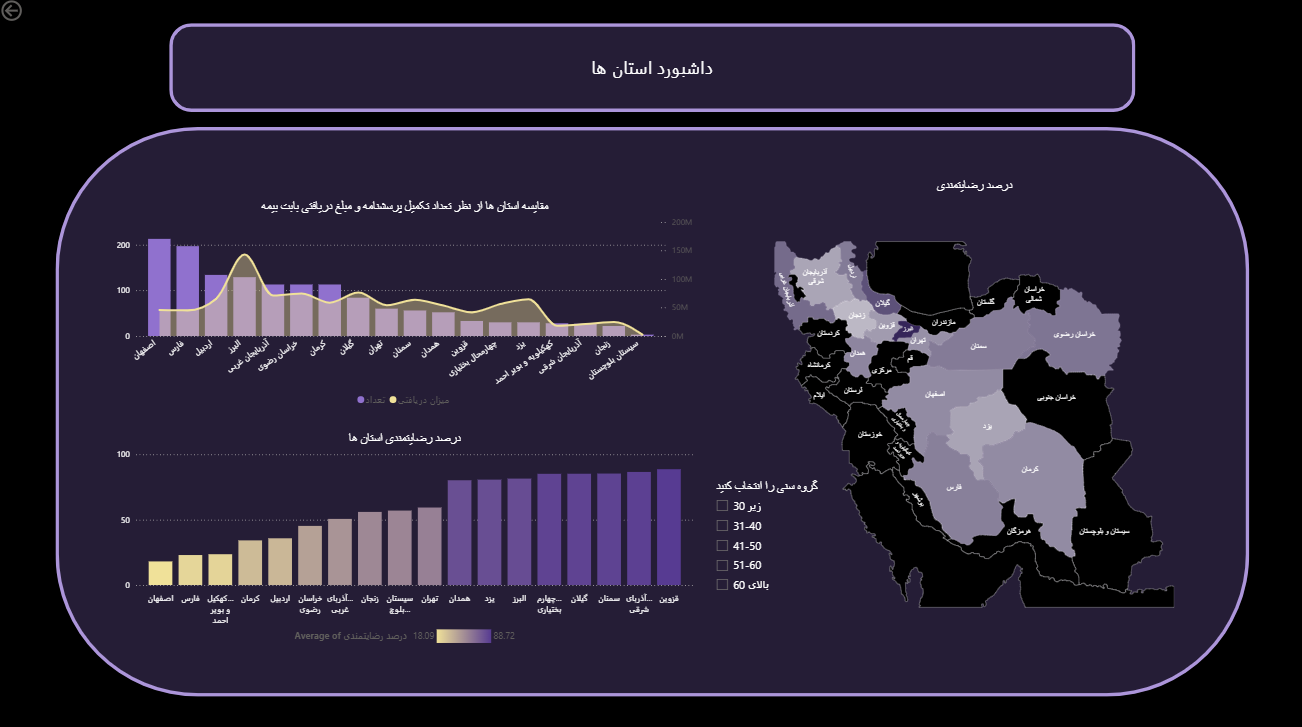

The dashboard page shown, as its layout file describes it:
{"tool":"powerbi","page":{"name":"provinces","canvas":[1920,1080],"ordinal":0},"visuals":[{"type":"shape","box":[84.4,191.4,1751.6,835.7],"z":0},{"type":"PBI_CV_815282F9_27F5_4950_9430_E910E0A8DB6A","title":"درصد رضایتمندی","fields":{"Category":["FACT_DATA.استان"],"Y":["Sum(FACT_DATA.درصد رضایتمندی)"]},"box":[1128,265.5,609.3,687.5],"z":1000},{"type":"lineClusteredColumnComboChart","title":"مقایسه استان ها از نظر تعداد تکمیل پرسشنامه و مبلغ دریافتی بابت بیمه","fields":{"Category":["FACT_DATA.استان محل دریافت خدمت"],"Y2":["Sum(FACT_DATA.میزان پرداخت)"],"Y":["Sum(FACT_DATA.تعداد)"]},"box":[168.8,296.4,856.3,312.9],"z":2000},{"type":"columnChart","title":"درصد رضایتمندی استان ها","fields":{"Category":["FACT_DATA.استان"],"Y":["Avg(FACT_DATA.درصد رضایتمندی)"]},"box":[168.8,638.1,856.3,321.1],"z":3000},{"type":"actionButton","box":[0,0,100,40],"z":4000},{"type":"shape","title":"داشبورد استان ها","box":[251.3,38.5,1417.9,130.2],"z":5000},{"type":"slicer","title":"گروه سنی را انتخاب کنید","fields":{"Values":["age_helper.گروه سنی"]},"box":[1041.9,708,172.4,179.8],"z":6000}]}

Visuals, with their boxes in screenshot pixels (x1, y1, x2, y2), scaled from the page's 1920x1080 canvas onto the 1302x727 screenshot:
shape: {"left": 57, "top": 129, "right": 1245, "bottom": 691}
"درصد رضایتمندی" PBI_CV_815282F9_27F5_4950_9430_E910E0A8DB6A: {"left": 765, "top": 179, "right": 1178, "bottom": 642}
"مقایسه استان ها از نظر تعداد تکمیل پرسشنامه و مبلغ دریافتی بابت بیمه" lineClusteredColumnComboChart: {"left": 114, "top": 200, "right": 695, "bottom": 410}
"درصد رضایتمندی استان ها" columnChart: {"left": 114, "top": 430, "right": 695, "bottom": 646}
actionButton: {"left": 0, "top": 0, "right": 68, "bottom": 27}
"داشبورد استان ها" shape: {"left": 170, "top": 26, "right": 1132, "bottom": 114}
"گروه سنی را انتخاب کنید" slicer: {"left": 707, "top": 477, "right": 823, "bottom": 598}
